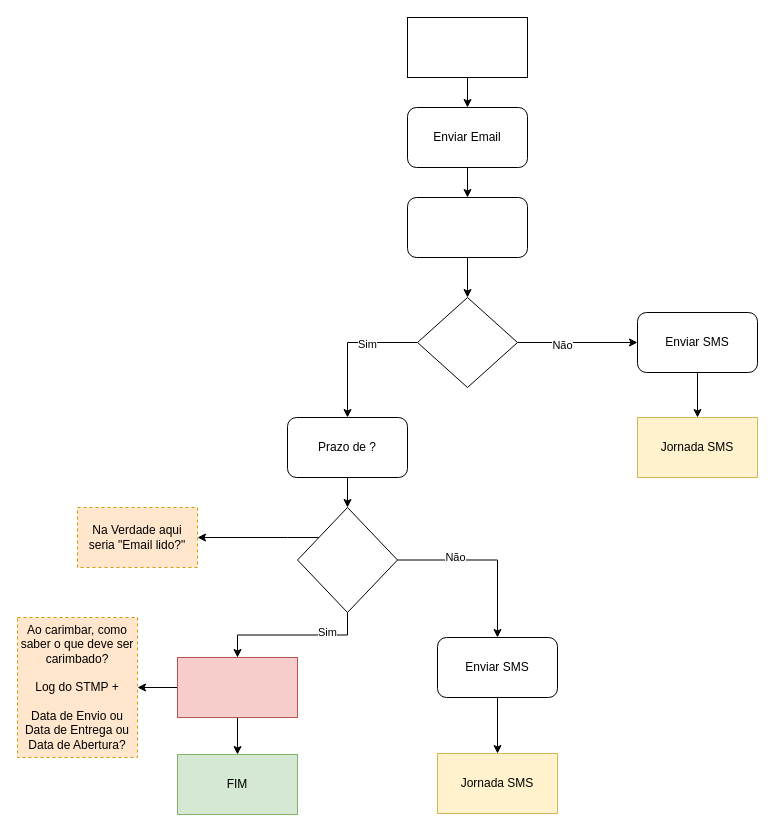
This 775x832 diagram has some shape labels left out. Each missing label, with the centre of its shape:
Carimbar Confirmação de leitura do Destinatario: the point at 237,687
Comunicação Aberta?: the point at 347,559
Comunicação Recebida?: the point at 467,342
Inicie sua Jornada: the point at 467,47
Prazo de: the point at 467,227
